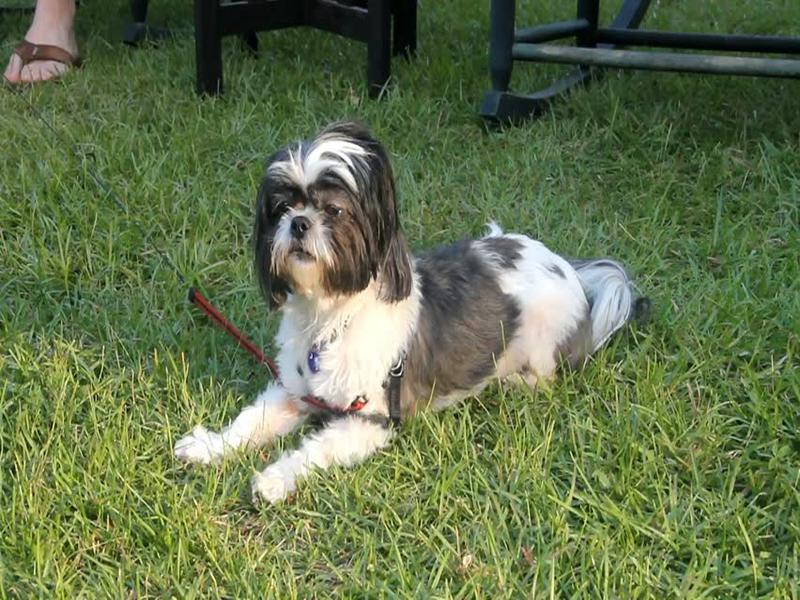dog_down: (166, 122, 641, 519)
